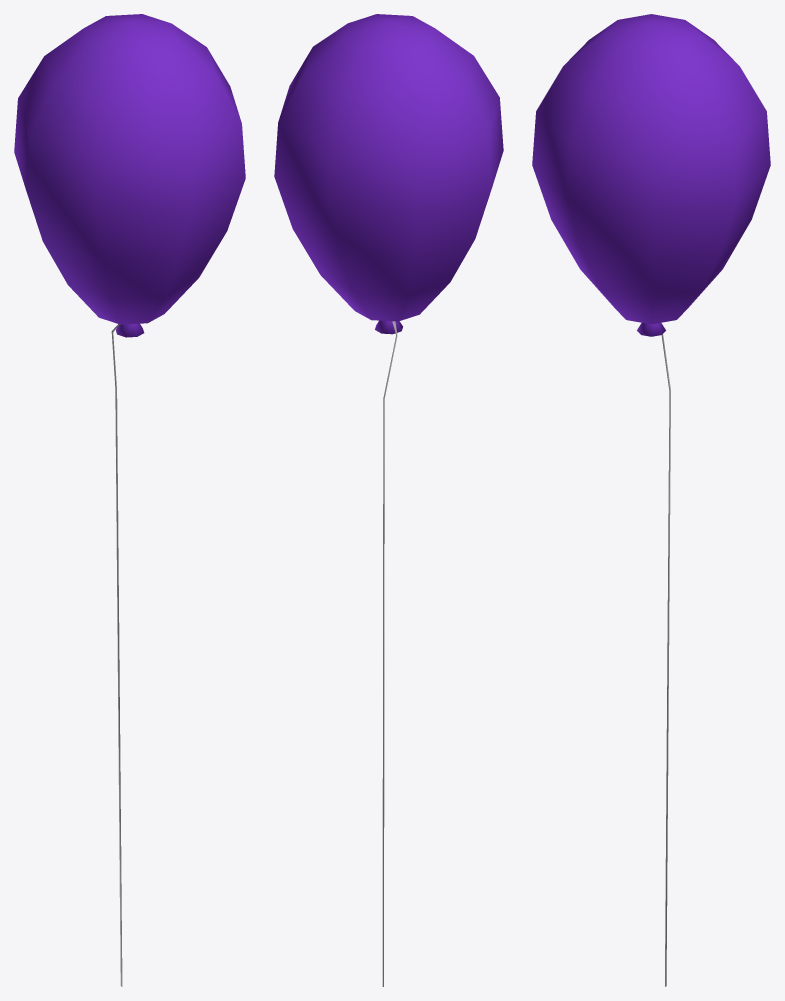
The model's file is BalloonPurple.glb.
3 views of the same model, side by side, from view 1: azimuth 30°, elevation 25°; view 2: azimuth 150°, elevation 25°; view 3: azimuth 270°, elevation 25° (orthographic).
Visible parts, largest first — view 1: BalloonPurple; view 2: BalloonPurple; view 3: BalloonPurple.
Boxes of the visible parts, left/top/right/bottom form: BalloonPurple: left=14, top=14, right=245, bottom=986; BalloonPurple: left=274, top=14, right=503, bottom=986; BalloonPurple: left=532, top=14, right=770, bottom=986.
Bounding box in the file's own units: 0.5007 × 2.23 × 0.5007.
1 material, 1 textured.
